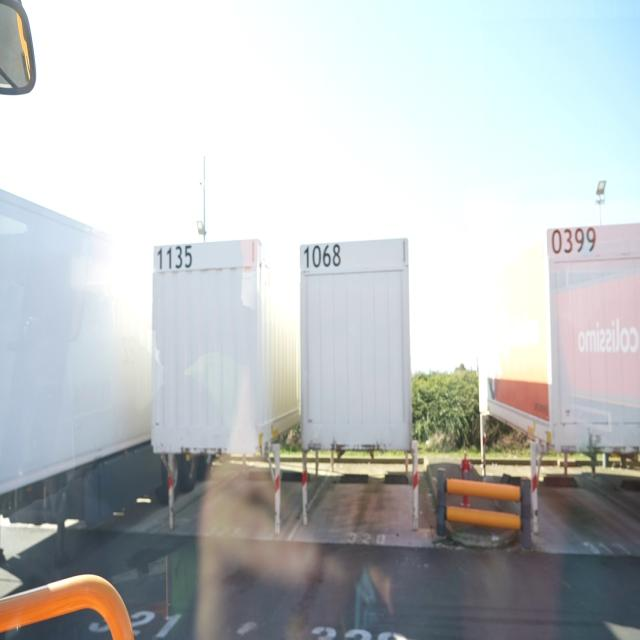Code: (550, 224, 596, 261), (302, 238, 342, 274), (156, 243, 193, 272)
